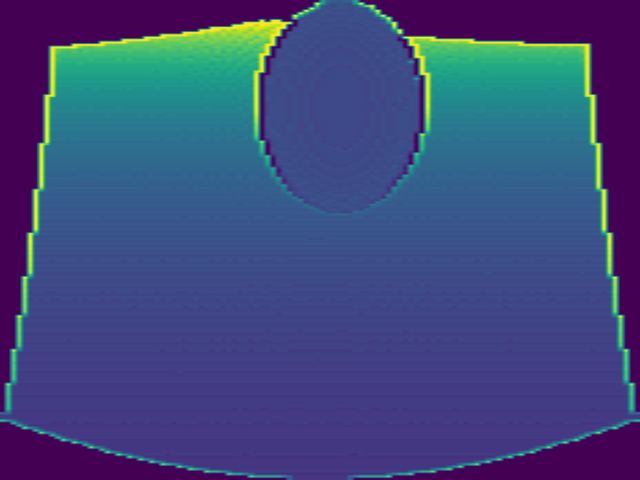sphere: (253, 2, 431, 213)
